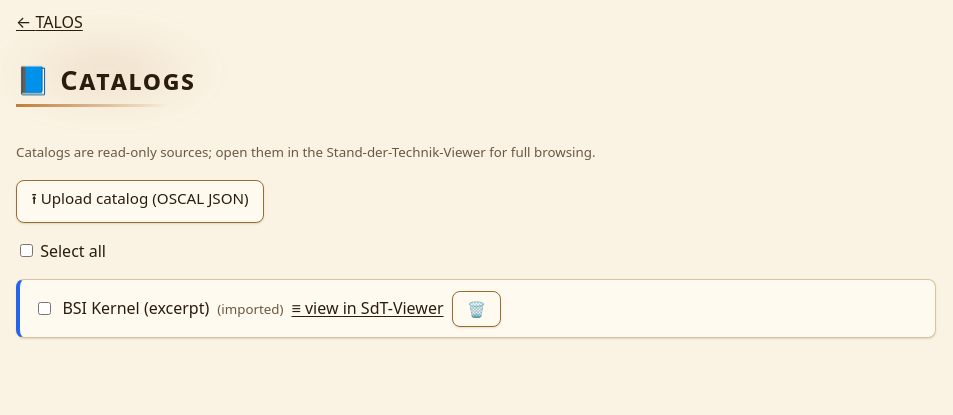
bulk selection (ADR-0027) › toggles a row checkbox and shows the bulk-actions bar
The image size is (953, 415).
Click the checkbox with test id "catalog-select-item": [45, 309] box [38,302,51,315]
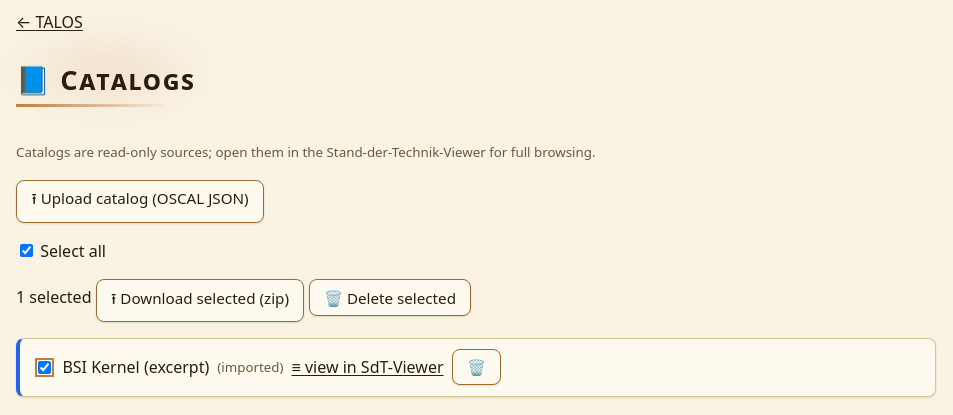
expect the text with test id "catalog-selected-count" shows "1": met, box [16,286,92,308]
